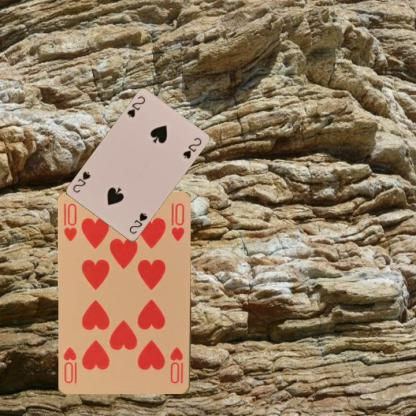10h: (62, 201, 79, 243), (168, 345, 184, 385)
2s: (126, 210, 148, 235), (124, 94, 146, 119)
